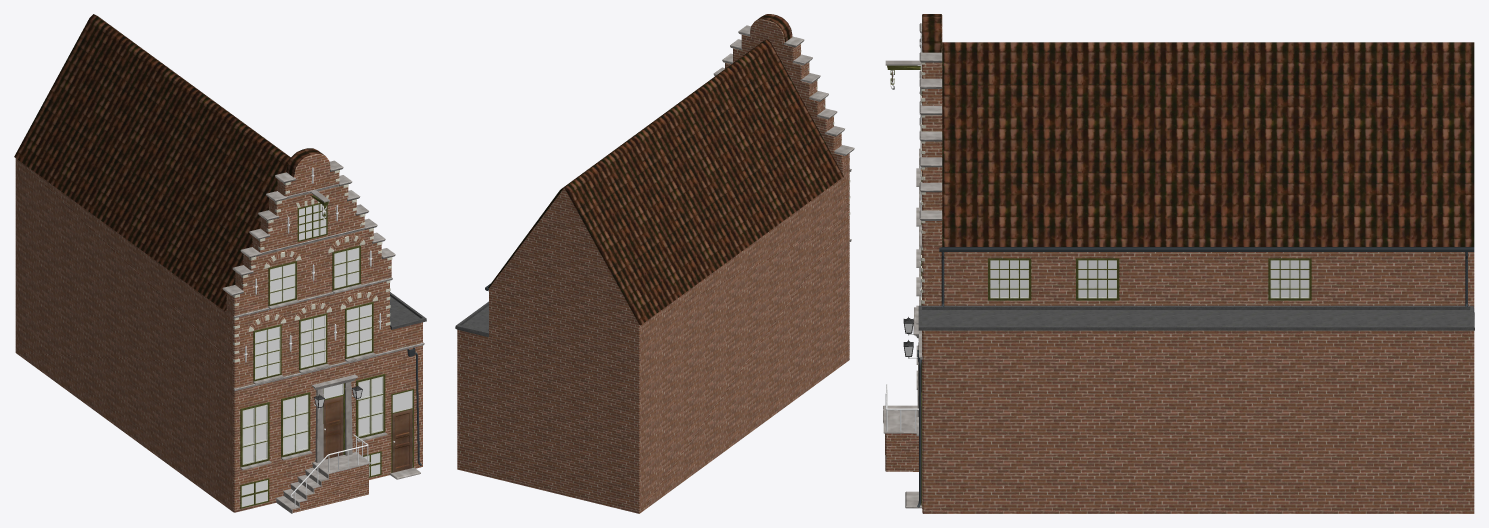
The model's file is canalHouse1.glb.
3 renders of one model, left to right at view 1: azimuth 30°, elevation 25°; view 2: azimuth 150°, elevation 25°; view 3: azimuth 270°, elevation 25°, orthographic. The views are drawn at different scales.
Visible parts, largest first — view 1: Object_15, Object_23, Object_29, Object_9, Object_27, Object_97, Object_4, Object_13, Object_22; view 2: Object_15, Object_23, Object_9, Object_22; view 3: Object_15, Object_23, Object_22, Object_9, Object_29, Object_60, Object_27, Object_97.
Boxes of the visible parts, left/top/right/bottom form: Object_15: left=15, top=154, right=422, bottom=512; Object_23: left=14, top=14, right=324, bottom=310; Object_29: left=242, top=167, right=411, bottom=506; Object_9: left=222, top=160, right=424, bottom=513; Object_27: left=240, top=195, right=413, bottom=508; Object_97: left=241, top=204, right=412, bottom=506; Object_4: left=323, top=396, right=412, bottom=472; Object_13: left=233, top=170, right=392, bottom=362; Object_22: left=234, top=292, right=426, bottom=482; Object_15: left=457, top=19, right=849, bottom=513; Object_23: left=488, top=14, right=843, bottom=325; Object_9: left=713, top=25, right=854, bottom=241; Object_22: left=455, top=301, right=488, bottom=337; Object_15: left=885, top=14, right=1474, bottom=513; Object_23: left=922, top=14, right=1474, bottom=246; Object_22: left=918, top=260, right=1474, bottom=330; Object_9: left=883, top=23, right=942, bottom=508; Object_29: left=885, top=33, right=1308, bottom=431; Object_60: left=917, top=247, right=1474, bottom=507; Object_27: left=887, top=65, right=1311, bottom=505; Object_97: left=990, top=260, right=1309, bottom=298.
Bounding box in the file's own units: 6.71 × 11.15 × 13.97.
13 materials, 10 textured.
